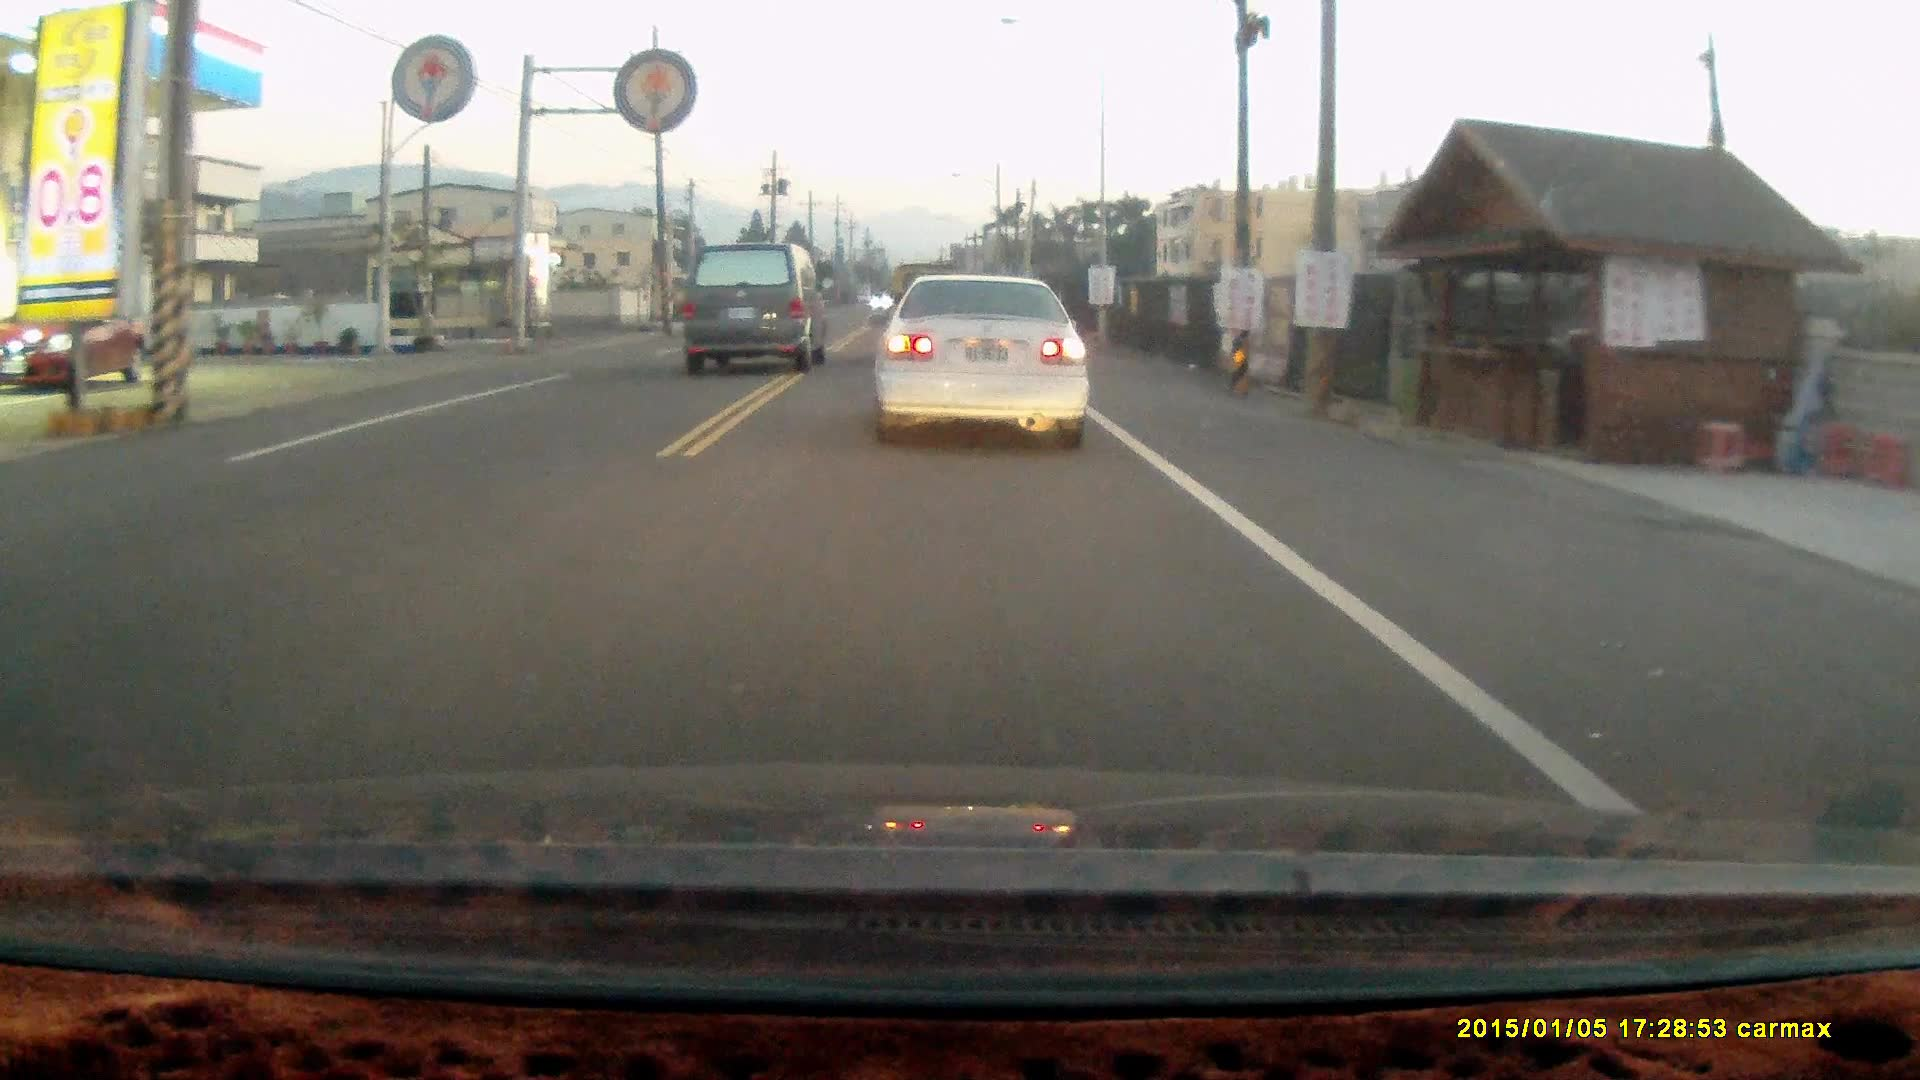vehicle: (868, 268, 1093, 455), (678, 243, 833, 376), (11, 293, 157, 396)
